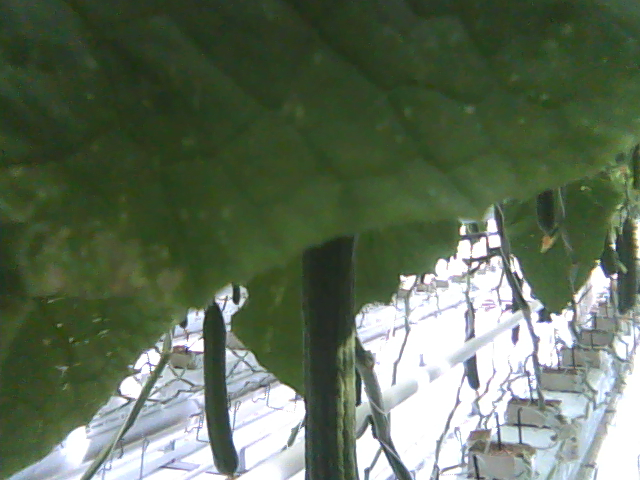concombre: (298, 235, 364, 480)
